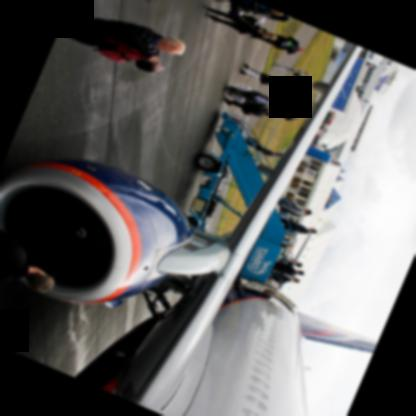backpack: (92, 45, 143, 62), (269, 274, 285, 284), (240, 107, 254, 116), (290, 72, 303, 78)
handbag: (229, 2, 246, 11)
suitcase: (227, 92, 245, 103), (233, 80, 250, 91)
